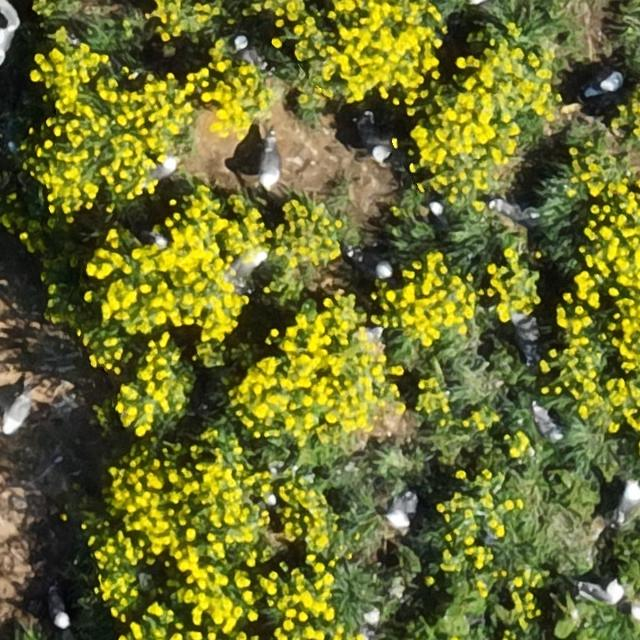umineko: (351, 252, 392, 277), (4, 396, 31, 432), (234, 38, 264, 69), (388, 493, 414, 527), (362, 126, 388, 160), (261, 144, 281, 186), (583, 581, 623, 602), (231, 249, 265, 272), (586, 72, 621, 94), (534, 408, 558, 439), (618, 485, 638, 521), (50, 592, 69, 628), (152, 156, 177, 180), (431, 200, 447, 227), (630, 605, 639, 624)
